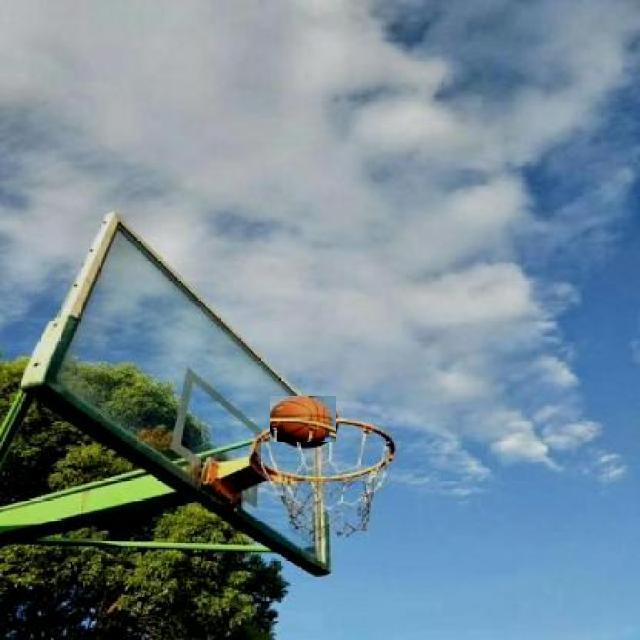Ball: (270, 397, 336, 442)
